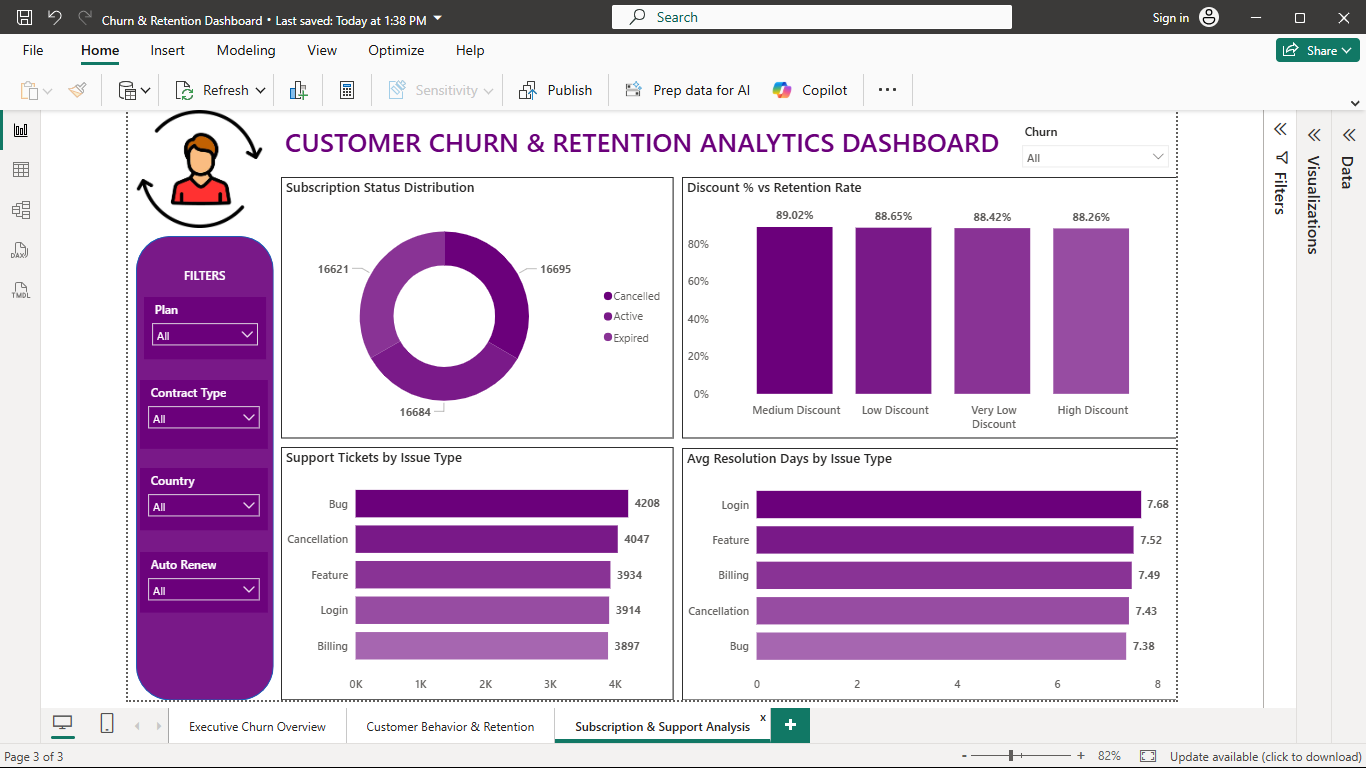

What the dashboard file says about the page in this screenshot:
{"tool":"powerbi","page":{"name":"Subscription & Support Analysis","canvas":[1280,720],"ordinal":2},"visuals":[{"type":"image","box":[9.3,0,154.7,144],"z":0},{"type":"shape","box":[9.3,153.3,168,566.7],"z":1000},{"type":"slicer","fields":{"Values":["customers_cleaned.Plan"]},"box":[19.3,228.5,148.6,75.7],"z":2000},{"type":"slicer","fields":{"Values":["subscriptions_cleaned.ContractType"]},"box":[15.1,328.9,155.5,84],"z":3000},{"type":"slicer","fields":{"Values":["customers_cleaned.Country"]},"box":[15.1,436.3,155.5,75.7],"z":4000},{"type":"slicer","fields":{"Values":["customers_cleaned.AutoRenew"]},"box":[15.1,539.5,155.5,74.3],"z":5000},{"type":"slicer","fields":{"Values":["customers_cleaned.Churn"]},"box":[1081.3,10.7,172,61.3],"z":6000},{"type":"textbox","box":[186.7,10.7,1093.3,61.3],"z":7000},{"type":"slicer","fields":{"Values":["customers_cleaned.Churn"]},"box":[1081.3,10.7,198.7,70.7],"z":8000},{"type":"donutChart","title":"Subscription Status Distribution","fields":{"Category":["subscriptions_cleaned.Status"],"Y":["CountNonNull(subscriptions_cleaned.SubscriptionID)"]},"box":[186.4,82.1,478.6,318.6],"z":8001},{"type":"clusteredColumnChart","title":"Discount % vs Retention Rate","fields":{"Category":["subscriptions_cleaned.Discount Group"],"Y":["customers_cleaned.Retention Rate %"]},"box":[676.2,82.1,603.8,318.6],"z":8002},{"type":"barChart","title":"Support Tickets by Issue Type","fields":{"Category":["SupportTickets_cleaned.IssueType"],"Y":["CountNonNull(SupportTickets_cleaned.TicketID)"]},"box":[186.4,411.8,478.6,308.9],"z":8003},{"type":"barChart","title":"Avg Resolution Days by Issue Type","fields":{"Category":["SupportTickets_cleaned.IssueType"],"Y":["Avg(SupportTickets_cleaned.ResolutionDays)"]},"box":[676,412,604,308],"z":8004}]}

Visuals, with their boxes on the page's 1280x720 design canvas (x1, y1, x2, y2). These are canvas units, not pixel positions in the 1366x768 screenshot, which may show the page scaled, cropped or inside an application window:
image: (left=9, top=0, right=164, bottom=144)
shape: (left=9, top=153, right=177, bottom=720)
slicer - customers_cleaned.Plan: (left=19, top=228, right=168, bottom=304)
slicer - subscriptions_cleaned.ContractType: (left=15, top=329, right=171, bottom=413)
slicer - customers_cleaned.Country: (left=15, top=436, right=171, bottom=512)
slicer - customers_cleaned.AutoRenew: (left=15, top=540, right=171, bottom=614)
slicer - customers_cleaned.Churn: (left=1081, top=11, right=1253, bottom=72)
textbox: (left=187, top=11, right=1280, bottom=72)
slicer - customers_cleaned.Churn: (left=1081, top=11, right=1280, bottom=81)
"Subscription Status Distribution" donutChart: (left=186, top=82, right=665, bottom=401)
"Discount % vs Retention Rate" clusteredColumnChart: (left=676, top=82, right=1280, bottom=401)
"Support Tickets by Issue Type" barChart: (left=186, top=412, right=665, bottom=721)
"Avg Resolution Days by Issue Type" barChart: (left=676, top=412, right=1280, bottom=720)
